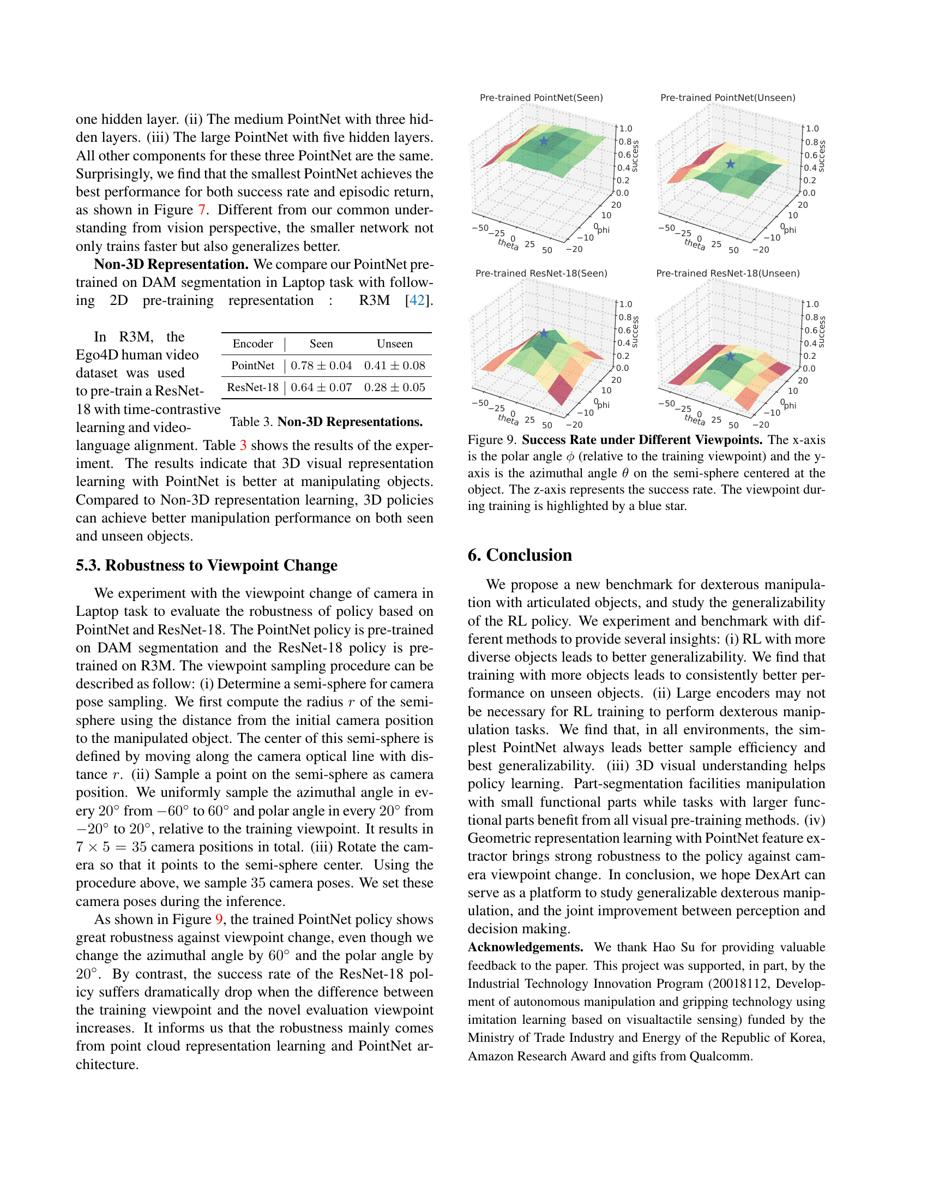figure: (463, 88, 830, 518)
table: (220, 327, 436, 433)
text: (462, 542, 830, 1067), (69, 436, 438, 909), (69, 106, 438, 313), (69, 909, 438, 1075), (69, 327, 223, 437)
